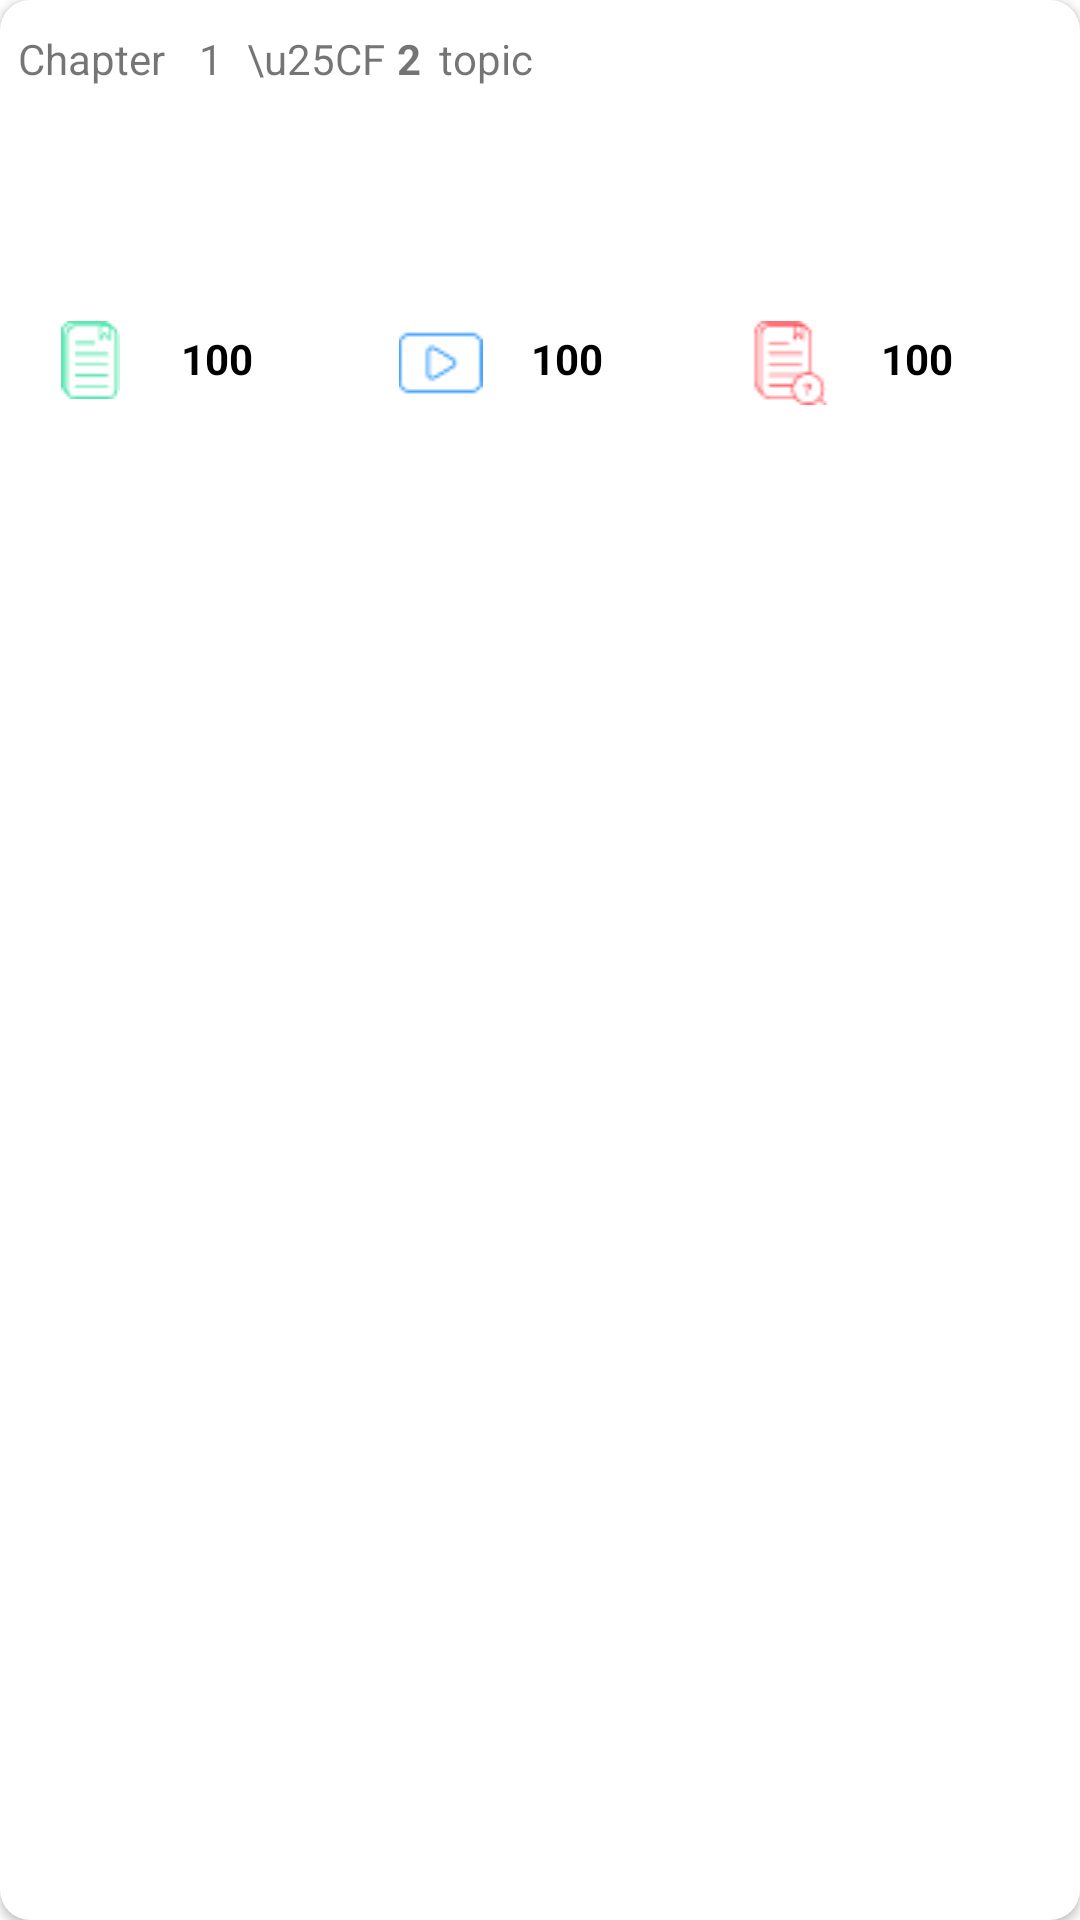

Icon bounding boxes for this 1080w x 1920h phone screenshot, format (x1, y1, x2, y2):
ques: (754, 321, 827, 405)
subject: (61, 321, 120, 399)
video: (399, 332, 483, 394)
